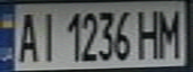1: (60, 8, 81, 62)
2: (78, 8, 100, 62)
3: (97, 8, 118, 62)
6: (112, 7, 136, 62)
A: (12, 8, 42, 64)
H: (133, 6, 163, 60)
I: (36, 8, 60, 63)
M: (154, 4, 184, 58)
